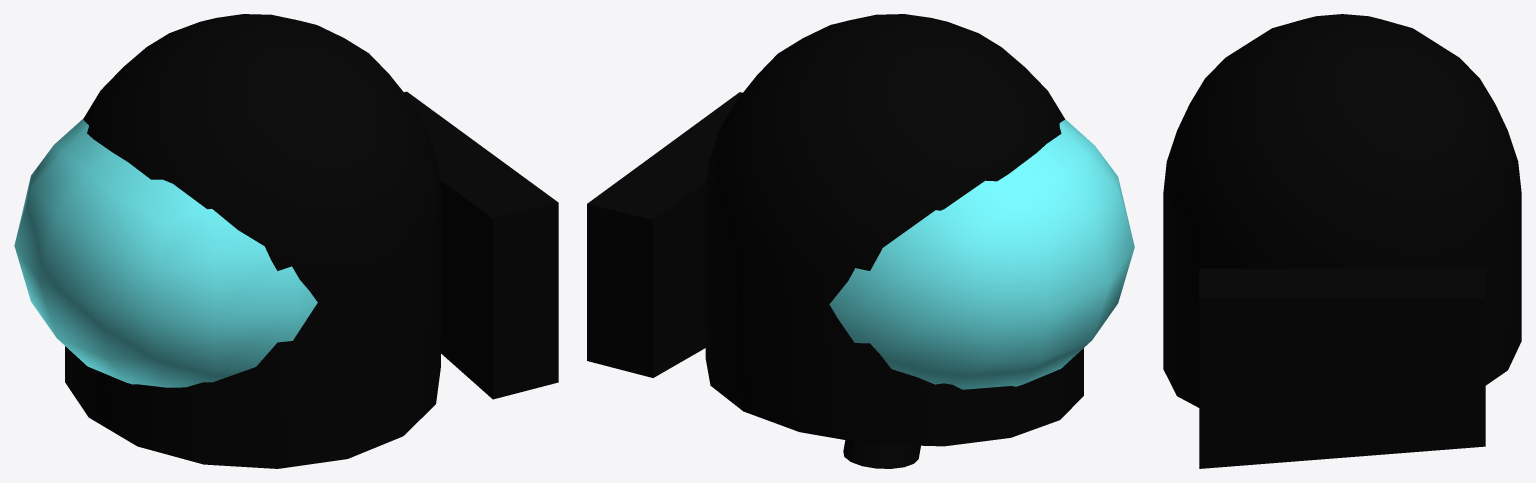
The model's file is SM.Crewmate.DeadUpper.fbx.
The picture shows the model from 3 angles, left to right: view 1: azimuth 30°, elevation 25°; view 2: azimuth 150°, elevation 25°; view 3: azimuth 270°, elevation 25°; orthographic projection. The views are drawn at different scales.
Parts seen in each view (by area): view 1: SM.Crewmate.DeadUpper; view 2: SM.Crewmate.DeadUpper; view 3: SM.Crewmate.DeadUpper.
Boxes of the visible parts, box(x1,y1,x2,y2) form: SM.Crewmate.DeadUpper: box(14, 14, 558, 468); SM.Crewmate.DeadUpper: box(587, 14, 1134, 468); SM.Crewmate.DeadUpper: box(1163, 14, 1521, 468).
Bounding box in the file's own units: 1.35 × 1.21 × 1.
